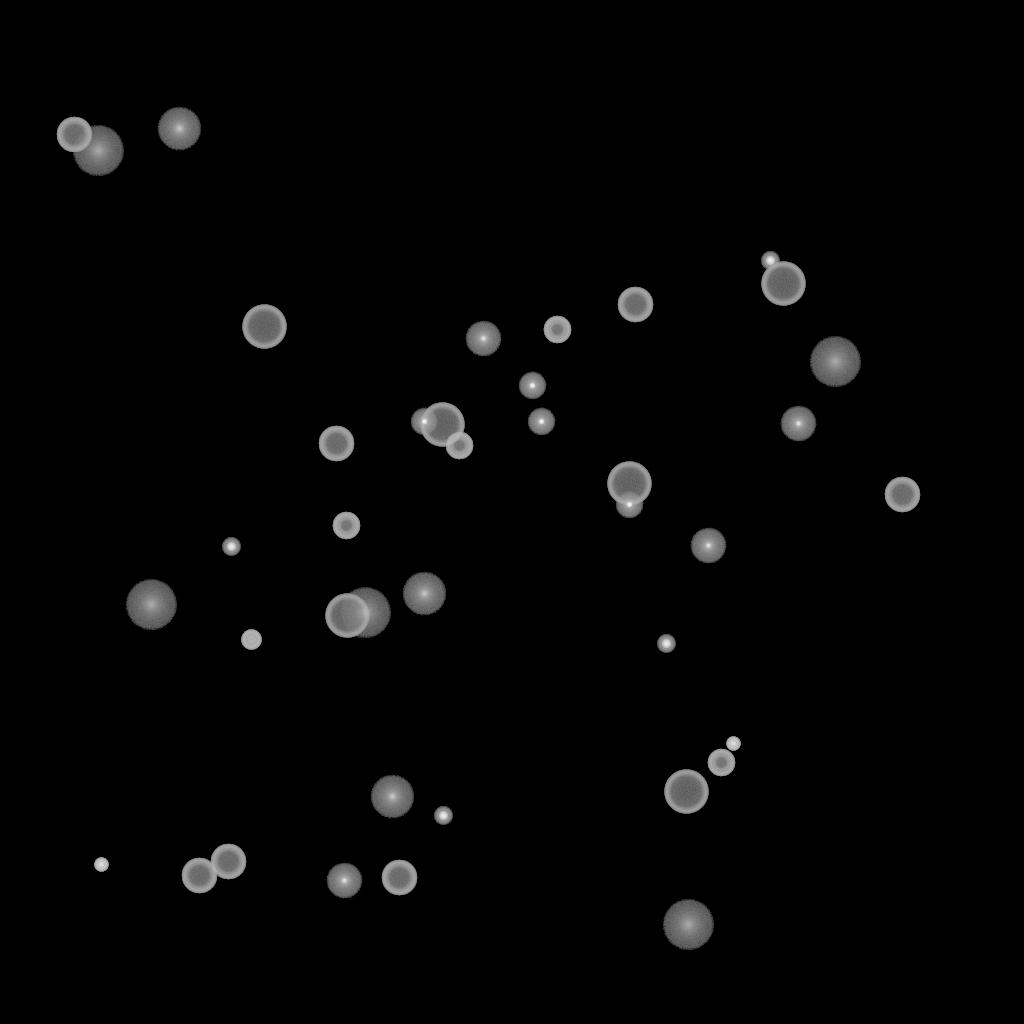depth:-10: (410, 408, 438, 436), (615, 491, 643, 519), (527, 408, 555, 436), (518, 372, 546, 400)
depth:-20: (434, 807, 452, 825), (222, 538, 240, 556), (657, 635, 675, 653), (761, 252, 779, 270)
depth:-30: (726, 737, 740, 751), (94, 858, 108, 872)
depth:-40: (241, 630, 261, 650)
depth:-50: (707, 749, 735, 777), (543, 316, 571, 344), (445, 432, 473, 460), (332, 512, 360, 540)
depth:-60: (56, 117, 92, 153), (318, 426, 354, 462), (617, 287, 653, 323), (181, 858, 217, 894), (210, 844, 246, 880), (381, 860, 417, 896), (884, 477, 920, 513)
depth:-70: (664, 770, 708, 814), (325, 594, 369, 638), (761, 262, 805, 306), (607, 462, 651, 506), (420, 403, 464, 447), (242, 305, 286, 349)
depth:0: (465, 321, 501, 357), (326, 863, 362, 899), (780, 406, 816, 442), (690, 528, 726, 564)
depth:10: (402, 572, 446, 616), (370, 775, 414, 819), (157, 107, 201, 151)
depth:20: (809, 337, 861, 387), (125, 580, 177, 630), (662, 900, 714, 950), (339, 588, 391, 638), (72, 126, 124, 176)
